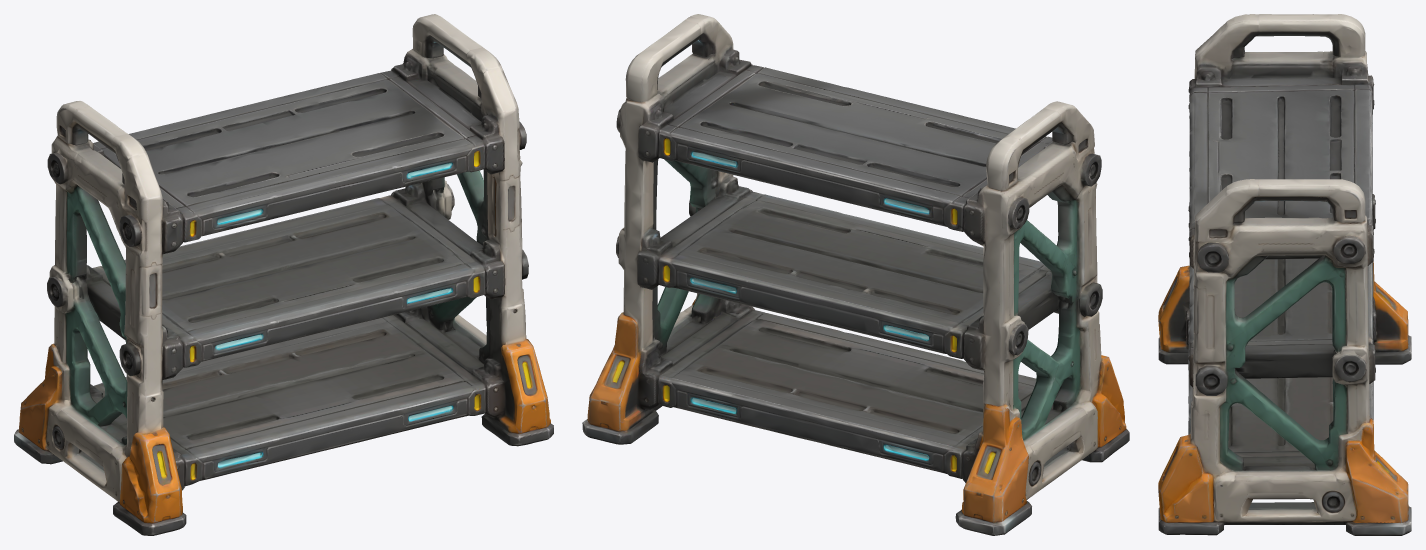
The model's file is sci-fi+shelf+3d+model.glb.
3 views of the same model, side by side, from view 1: azimuth 30°, elevation 25°; view 2: azimuth 150°, elevation 25°; view 3: azimuth 270°, elevation 25° (orthographic). The views are drawn at different scales.
Visible parts, largest first — view 1: tripo_node_ffc086f4-e9d8-4927-a8be-ad202ad8e2ed; view 2: tripo_node_ffc086f4-e9d8-4927-a8be-ad202ad8e2ed; view 3: tripo_node_ffc086f4-e9d8-4927-a8be-ad202ad8e2ed.
Part boxes in pixels (x1,y1,x2,y2): tripo_node_ffc086f4-e9d8-4927-a8be-ad202ad8e2ed: (14, 14, 553, 535); tripo_node_ffc086f4-e9d8-4927-a8be-ad202ad8e2ed: (582, 14, 1129, 535); tripo_node_ffc086f4-e9d8-4927-a8be-ad202ad8e2ed: (1158, 14, 1411, 535).
Size of the model in its own units: 1 by 0.82 by 0.5532.
1 material, 1 textured.
